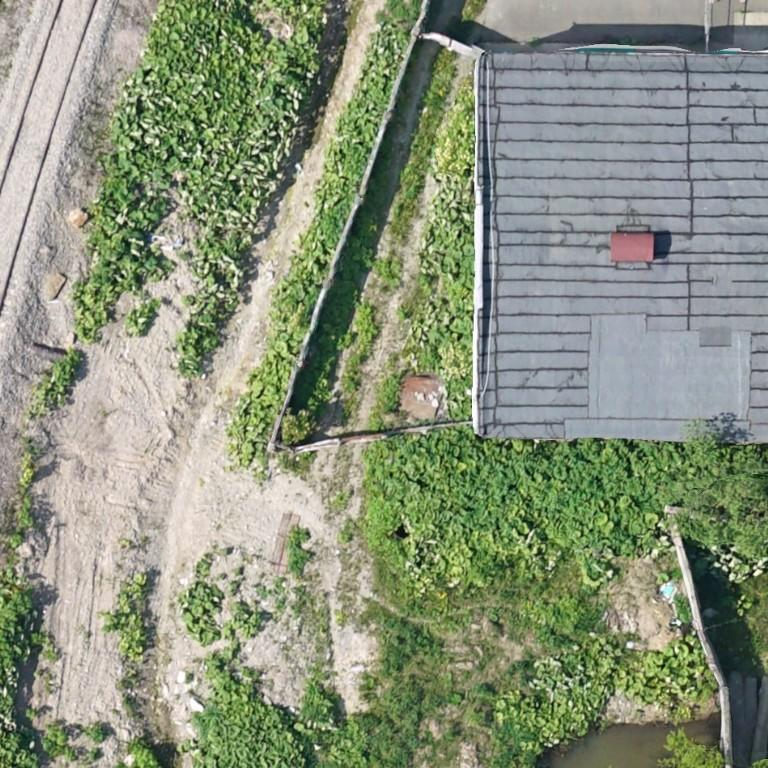hogweed: (401, 430, 682, 546)
